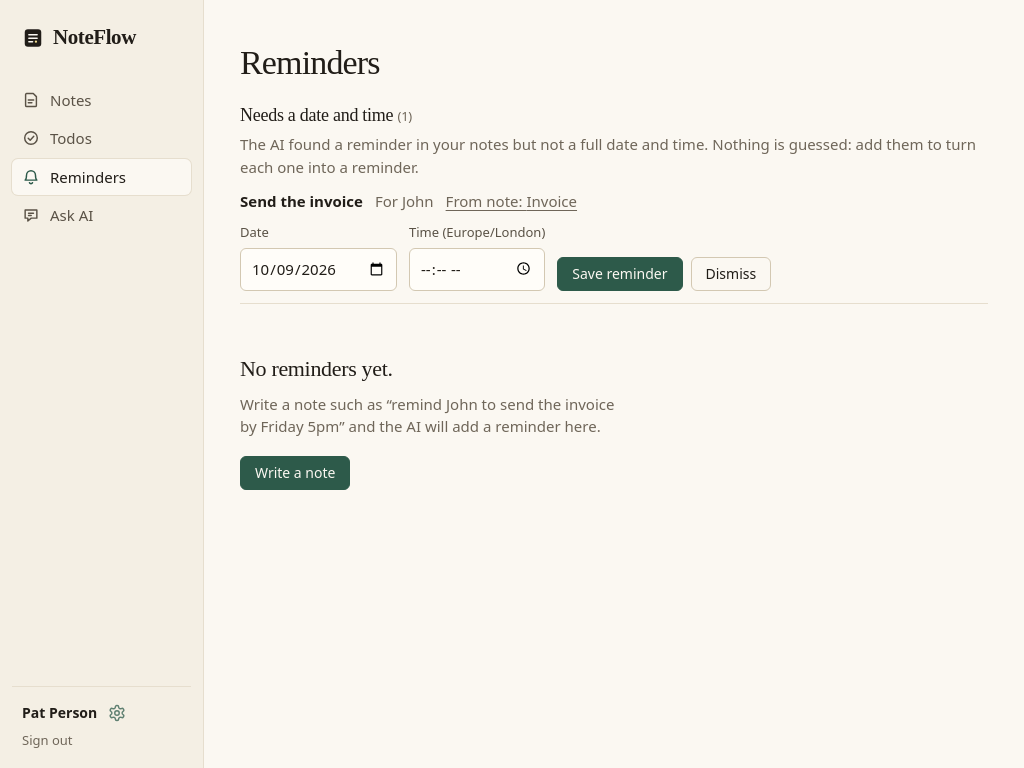
Test: reminders that still need a date and time › saves the typed date and time, then shows it as a reminder
In the time field labelled "Time (Europe/London)": (477, 269) [409,248,545,291], type "17:30"
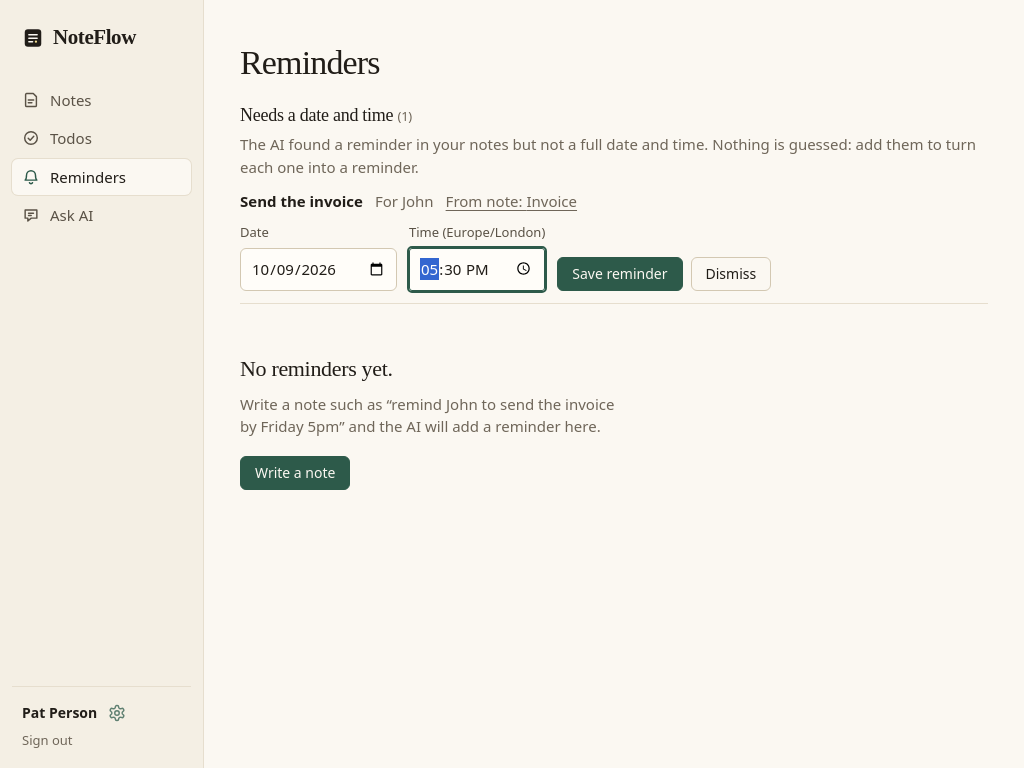
Click the button "Save reminder": click(620, 274) [557,257,682,291]
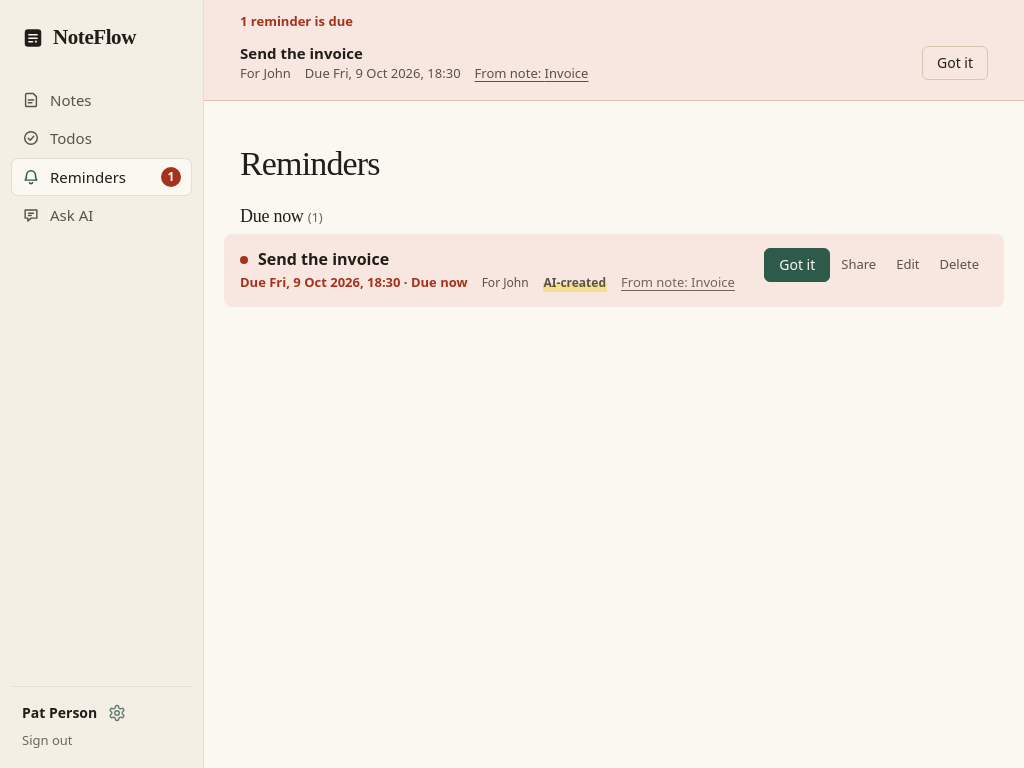
Now the heading "Needs a date and time" is gone
